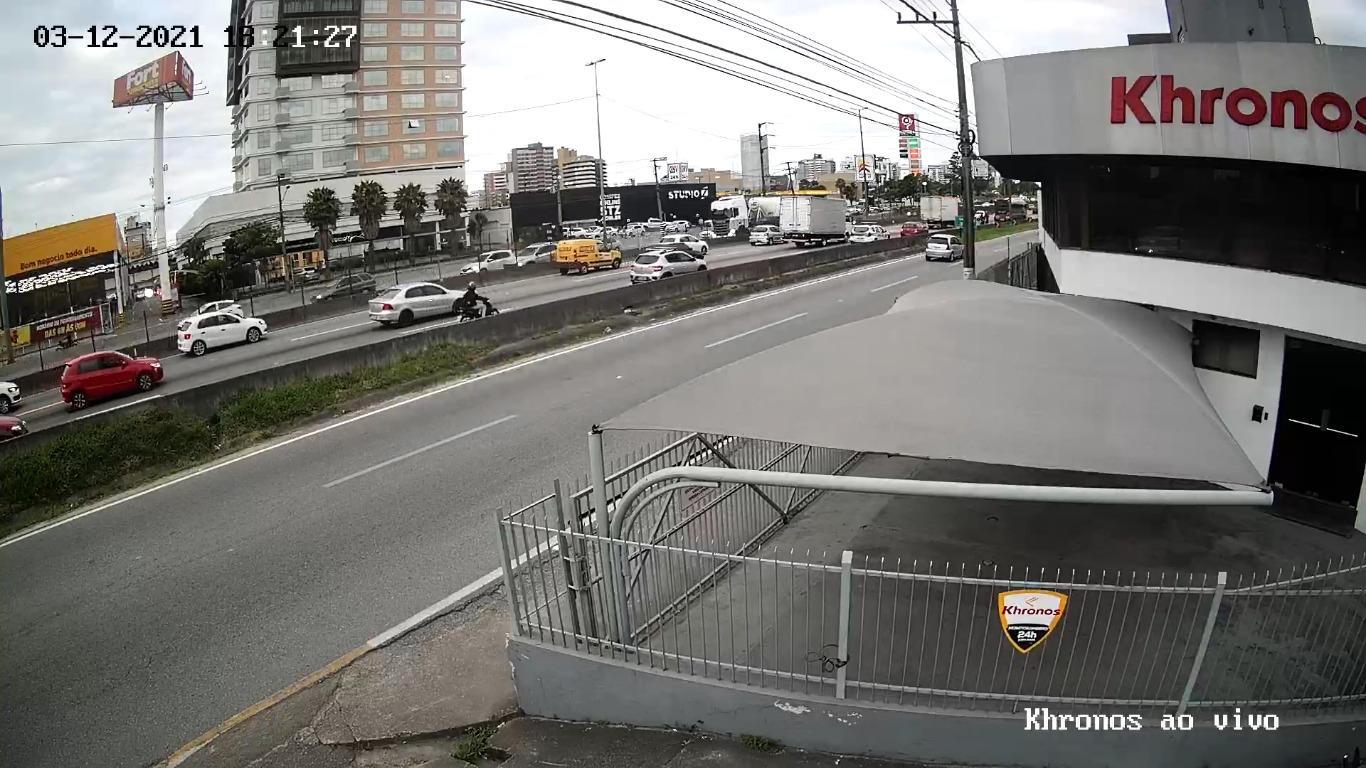car: (56, 348, 169, 413), (174, 309, 271, 361), (366, 282, 472, 328), (629, 247, 708, 288), (553, 236, 626, 277), (309, 270, 378, 308), (656, 230, 709, 262), (924, 230, 965, 270)
motorcycle: (454, 280, 502, 332)
